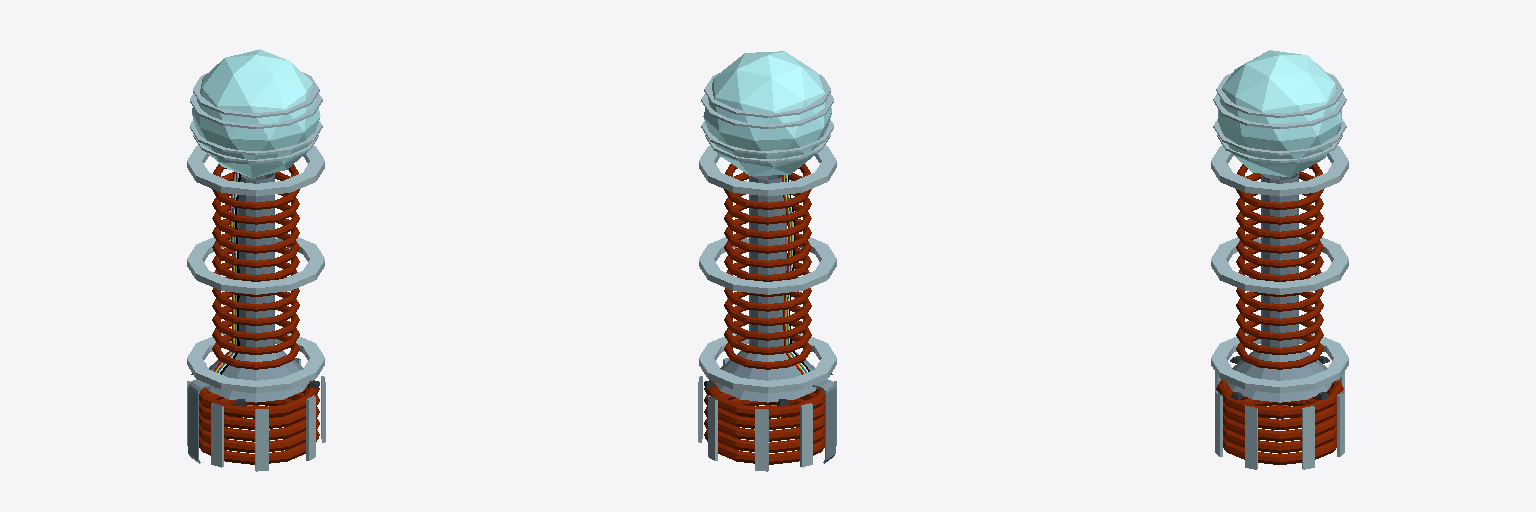
3 renders of one model, left to right at view 1: azimuth 30°, elevation 25°; view 2: azimuth 150°, elevation 25°; view 3: azimuth 270°, elevation 25°, orthographic.
Parts seen in each view (by area): view 1: fant_tesla_coil_remodel_Cylinder; view 2: fant_tesla_coil_remodel_Cylinder; view 3: fant_tesla_coil_remodel_Cylinder.
Boxes of the visible parts, box(x1,y1,x2,y2) form: fant_tesla_coil_remodel_Cylinder: box(187, 49, 325, 471); fant_tesla_coil_remodel_Cylinder: box(698, 51, 836, 471); fant_tesla_coil_remodel_Cylinder: box(1211, 50, 1348, 469).
Size of the model in its own units: 3 by 9.17 by 3.
1 materials, 1 textured.